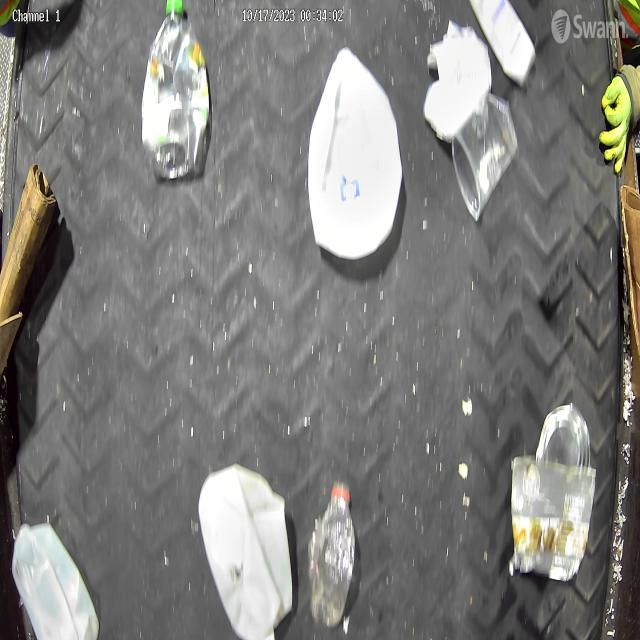can: (512, 457, 596, 582), (536, 404, 592, 466)
milk_jug: (307, 46, 403, 262), (198, 461, 294, 638), (10, 520, 100, 640)
plastic_bottle: (142, 0, 210, 177), (306, 483, 356, 628)
